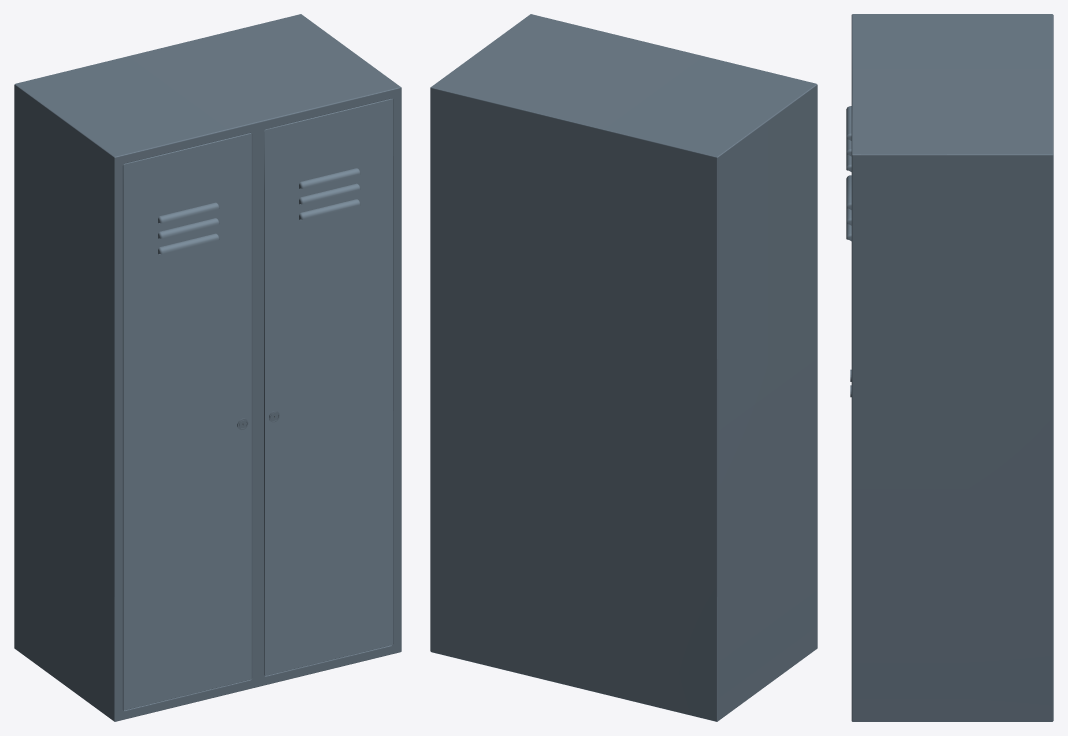
Rendered from SM_Locker_Doors_2Side_Closed.fbx.
The picture shows the model from 3 angles, left to right: view 1: azimuth 30°, elevation 25°; view 2: azimuth 150°, elevation 25°; view 3: azimuth 270°, elevation 25°; orthographic projection.
Parts seen in each view (by area): view 1: SM_Locker_Doors_2Side_Closed; view 2: SM_Locker_Doors_2Side_Closed; view 3: SM_Locker_Doors_2Side_Closed.
Boxes of the visible parts, x1,y1,x2,y2 form: SM_Locker_Doors_2Side_Closed: (14, 14, 401, 721); SM_Locker_Doors_2Side_Closed: (430, 14, 817, 721); SM_Locker_Doors_2Side_Closed: (846, 14, 1053, 721).
Bounding box in the file's own units: 115 × 215 × 71.27.
